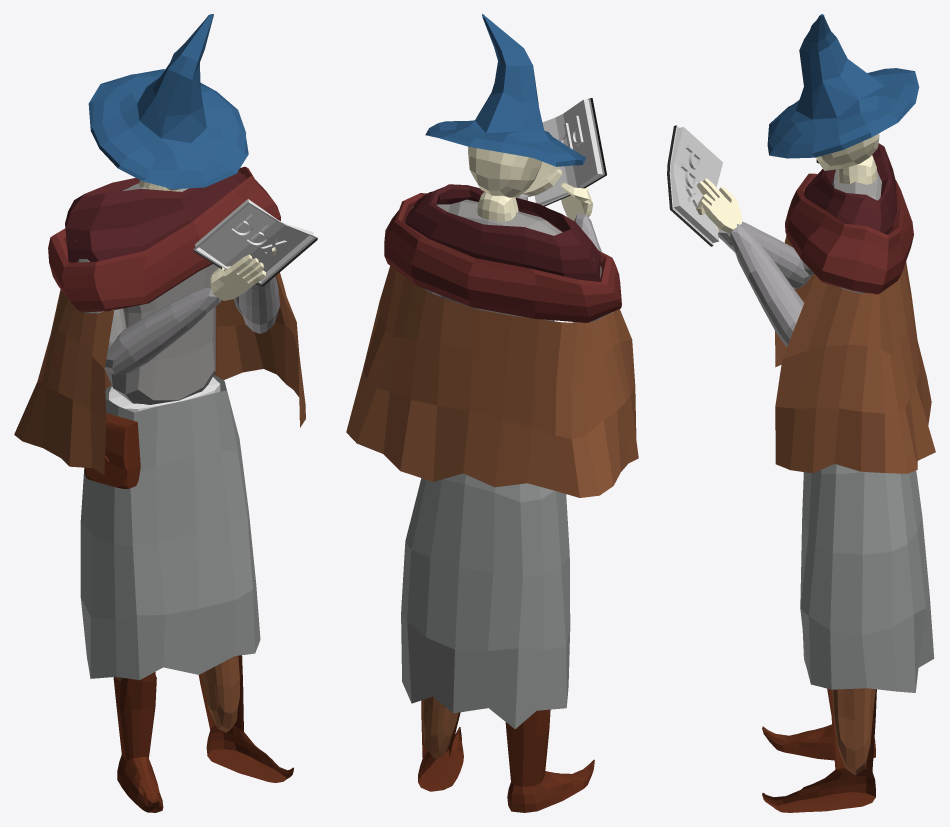
File: modelomago2.glb
3 views of the same model, side by side, from view 1: azimuth 30°, elevation 25°; view 2: azimuth 150°, elevation 25°; view 3: azimuth 270°, elevation 25° (orthographic).
Parts seen in each view (by area): view 1: Cube.006; view 2: Cube.006; view 3: Cube.006.
Boxes of the visible parts, x1=… form: Cube.006: x1=14, y1=14, x2=317, y2=812; Cube.006: x1=346, y1=14, x2=638, y2=812; Cube.006: x1=667, y1=14, x2=935, y2=812.
Bounding box in the file's own units: 0.5828 × 1.66 × 0.5245.
